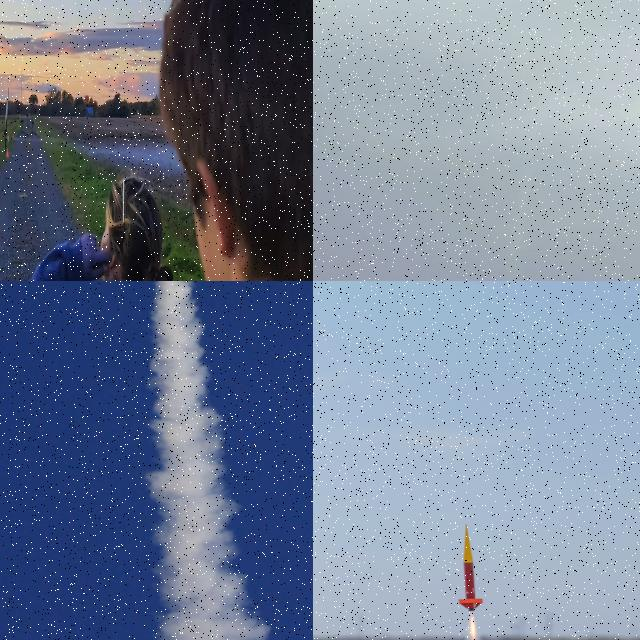Rocket: (458, 523, 484, 612), (4, 95, 8, 137)
